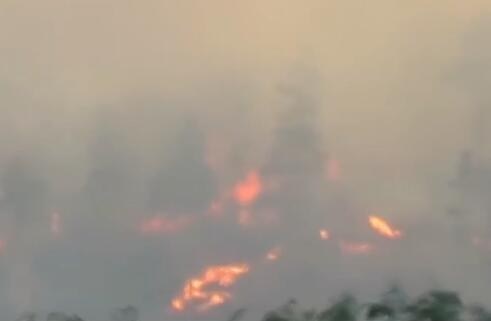fire: (126, 172, 276, 237), (171, 243, 280, 309), (318, 213, 405, 254)
smoke: (0, 1, 490, 318)
